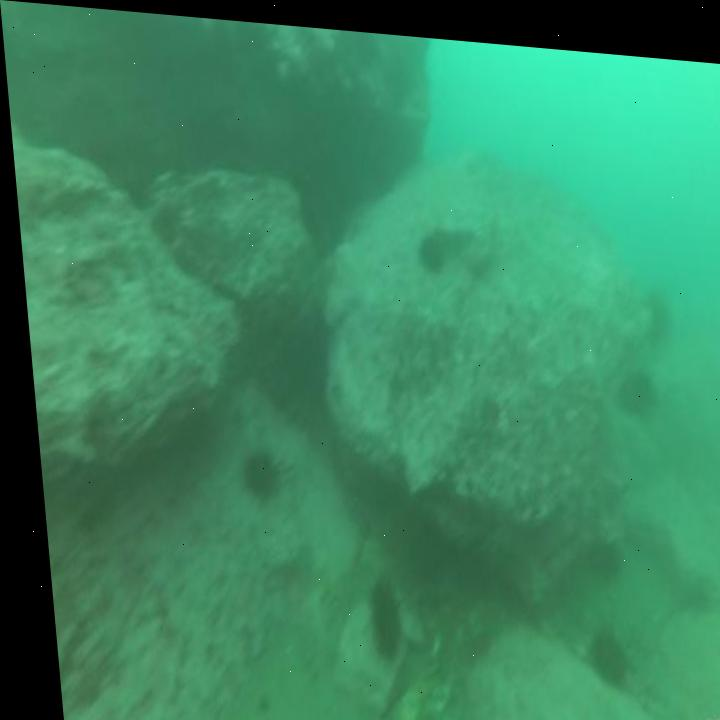echinus: (350, 567, 398, 659), (229, 435, 277, 502), (575, 615, 624, 680), (576, 516, 617, 579), (636, 271, 673, 334), (611, 347, 649, 408), (116, 155, 153, 212), (410, 220, 446, 274)
